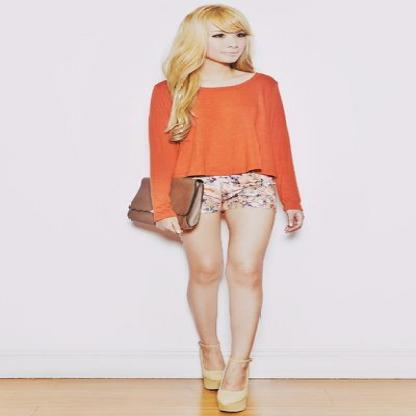bag: (127, 174, 209, 240)
shirt: (148, 75, 302, 219)
shoe: (199, 370, 243, 405)
shorts: (192, 173, 282, 223)
